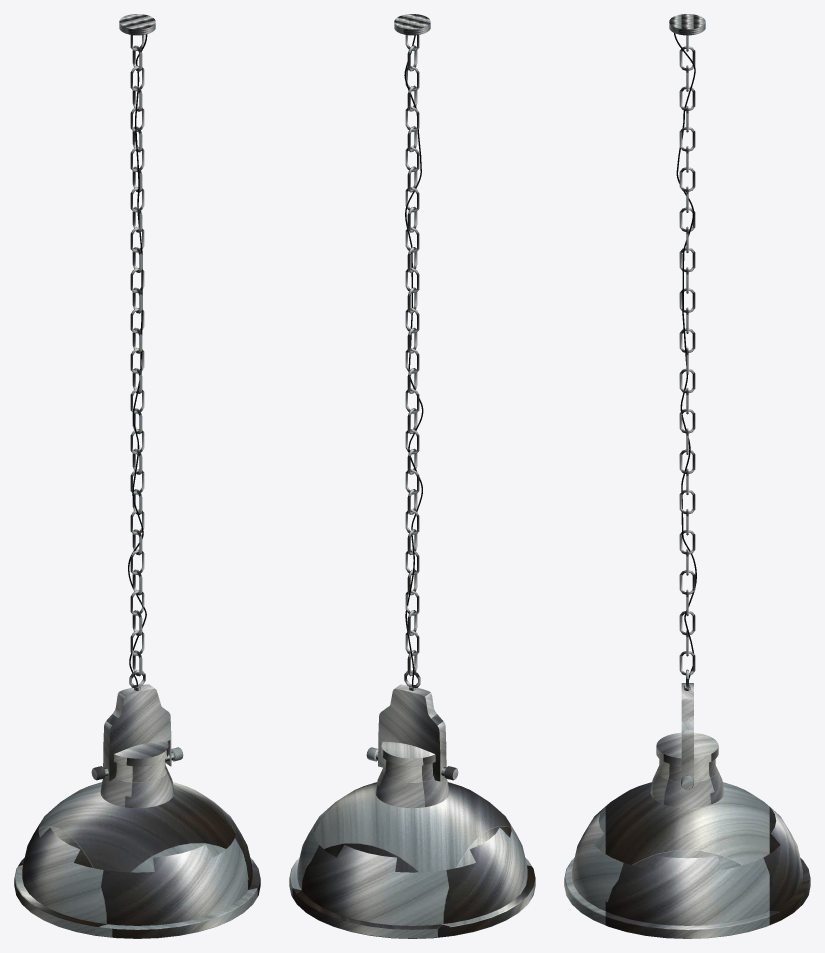
Rendered from Industrial_Ceiling_Lamp_.obj.
The picture shows the model from 3 angles, left to right: view 1: azimuth 30°, elevation 25°; view 2: azimuth 150°, elevation 25°; view 3: azimuth 270°, elevation 25°; orthographic projection.
Visible parts, largest first — view 1: Industrial_Lamp_Mesh, Cable_Mesh.019; view 2: Industrial_Lamp_Mesh, Cable_Mesh.019; view 3: Industrial_Lamp_Mesh, Cable_Mesh.019.
Part boxes in pixels (box(x1,y1,x2,y2)): Industrial_Lamp_Mesh: box(14, 14, 260, 938); Cable_Mesh.019: box(128, 34, 147, 685); Industrial_Lamp_Mesh: box(289, 14, 535, 938); Cable_Mesh.019: box(404, 35, 423, 685); Industrial_Lamp_Mesh: box(564, 14, 810, 938); Cable_Mesh.019: box(674, 33, 696, 679).
Size of the model in its own units: 1 by 3.88 by 1.
